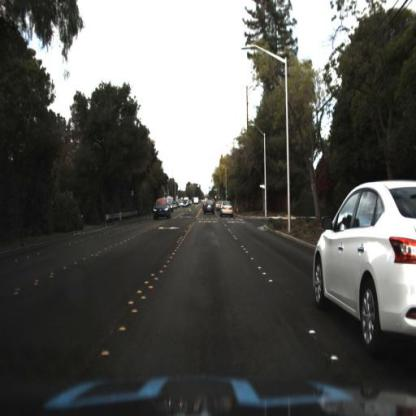car: (308, 174, 414, 353), (153, 196, 171, 224), (219, 198, 236, 221), (203, 198, 217, 218)
